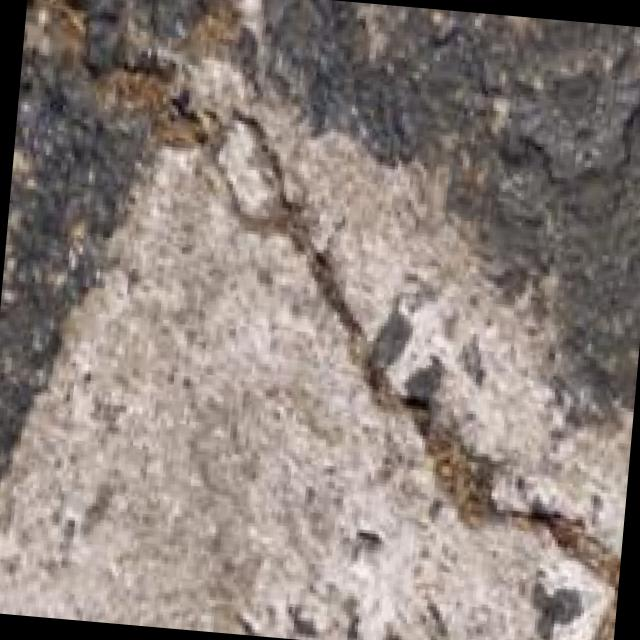crack: (172, 140, 632, 585)
